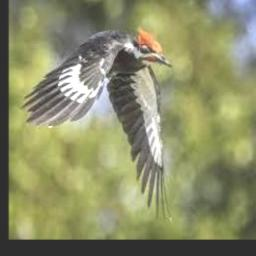Woodpecker: (20, 26, 172, 222)
